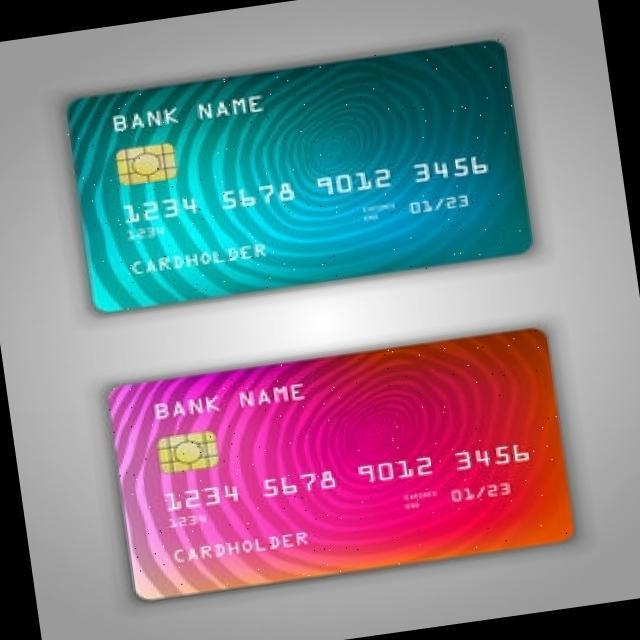payment_card: (65, 38, 534, 313), (106, 326, 575, 601)
